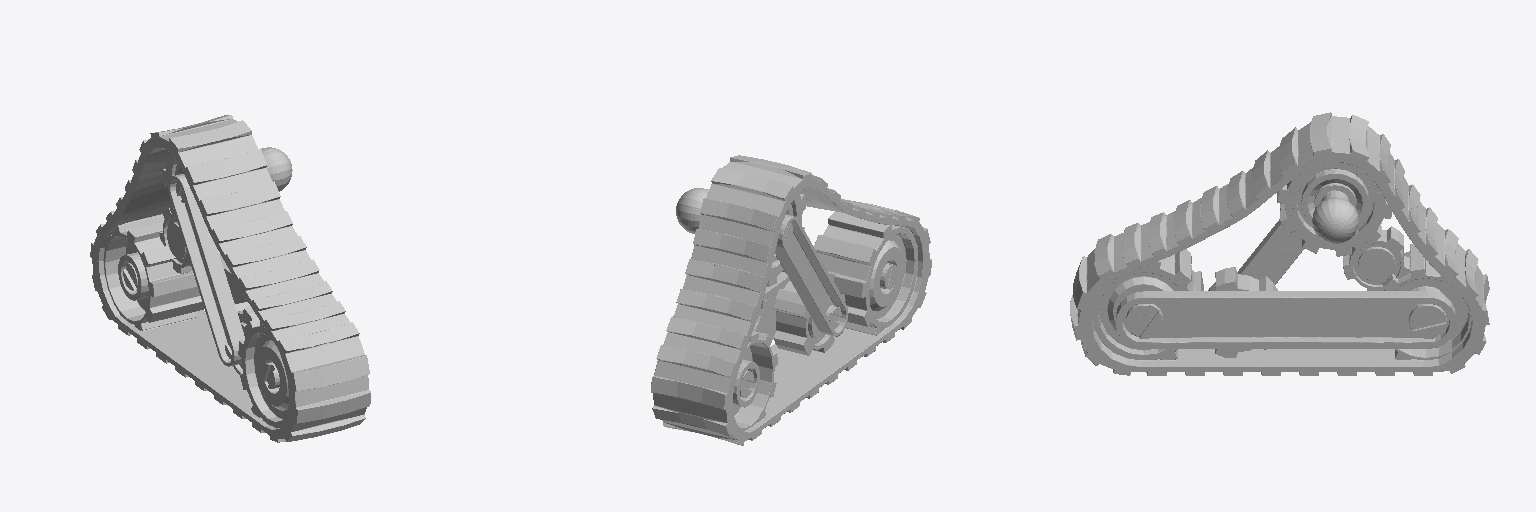
File: WALLE_E_RIGHT_LEG_HOLLOW_1MM.obj
3 renders of one model, left to right at view 1: azimuth 30°, elevation 25°; view 2: azimuth 150°, elevation 25°; view 3: azimuth 270°, elevation 25°, orthographic.
Size of the model in its own units: 17.97 by 32.02 by 53.36.